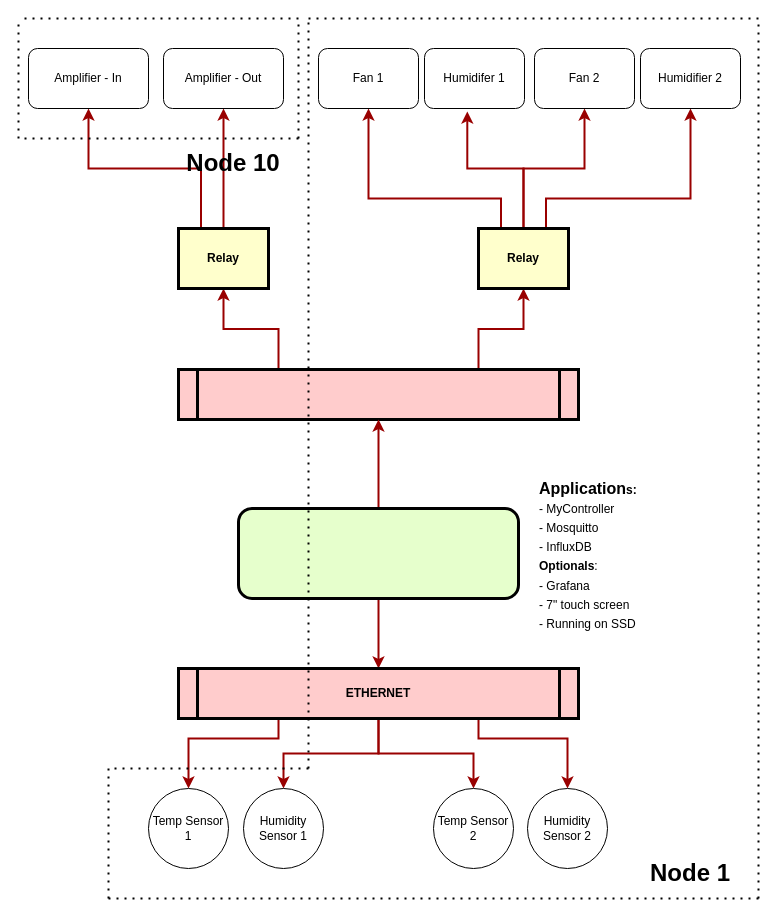
The diagram is 777 pixels wide and 917 high, and some of its shapes have lost their labels. Each missing label, with the box of its shape:
Raspberry Pi Automation Controller: (236, 506, 520, 600)
RS485 Bus: (176, 368, 580, 420)
